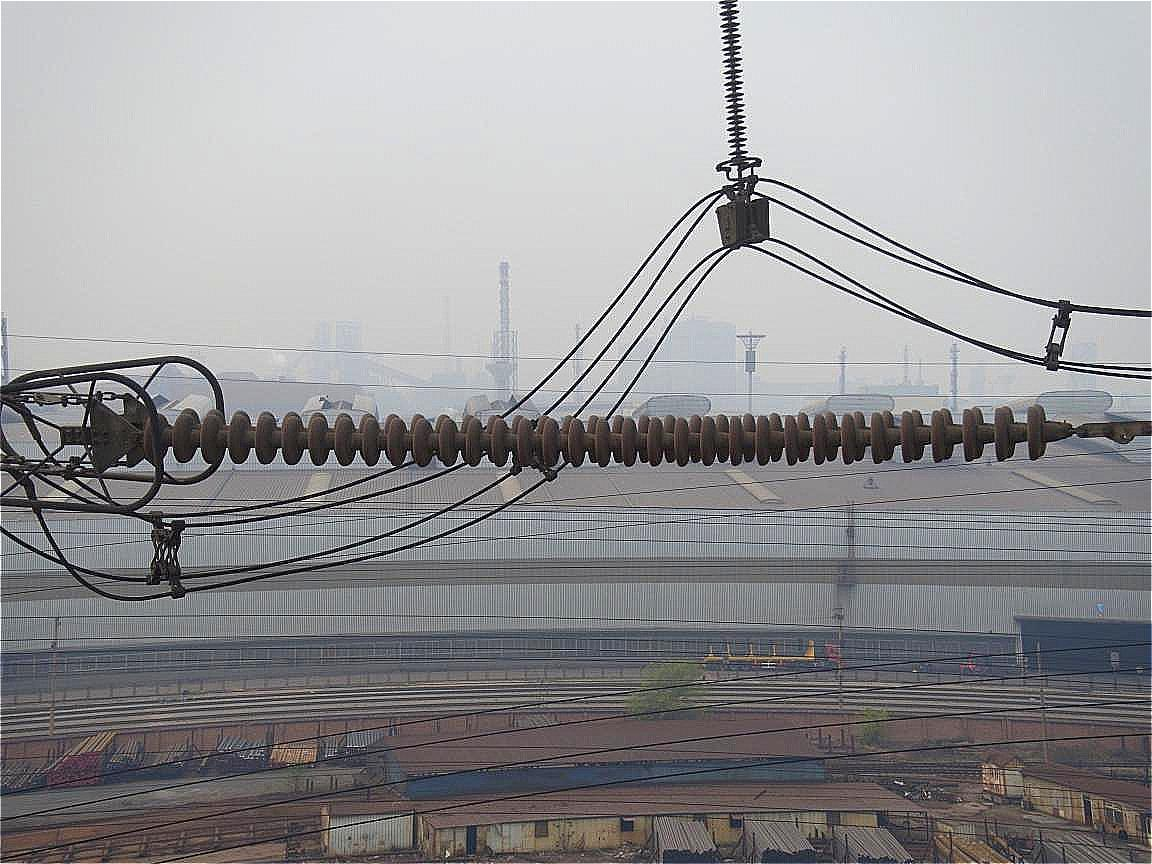insultor1: (142, 402, 1057, 466)
